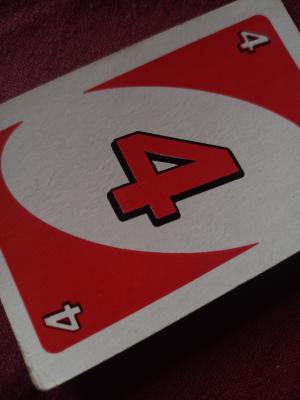num_4: (97, 120, 246, 231), (33, 293, 92, 340), (228, 18, 275, 55)
